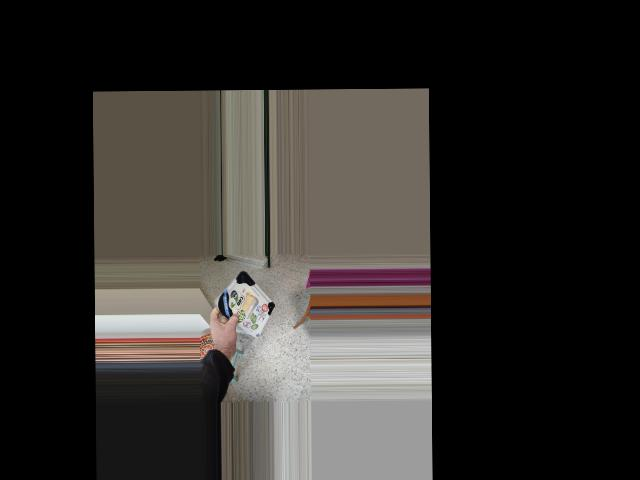cheese: (201, 279, 278, 328)
